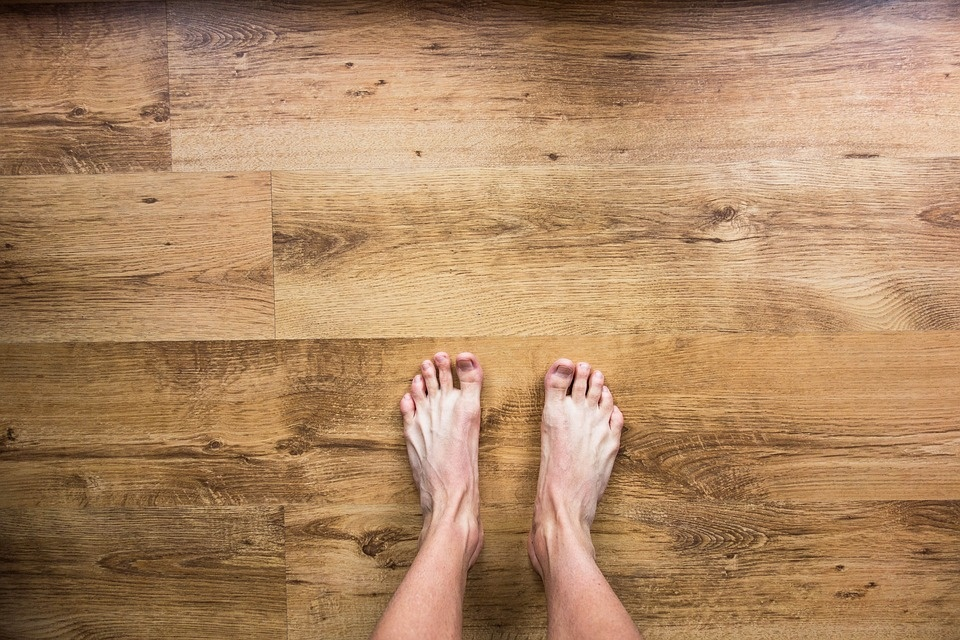feet: (376, 340, 491, 580), (524, 340, 626, 585)
